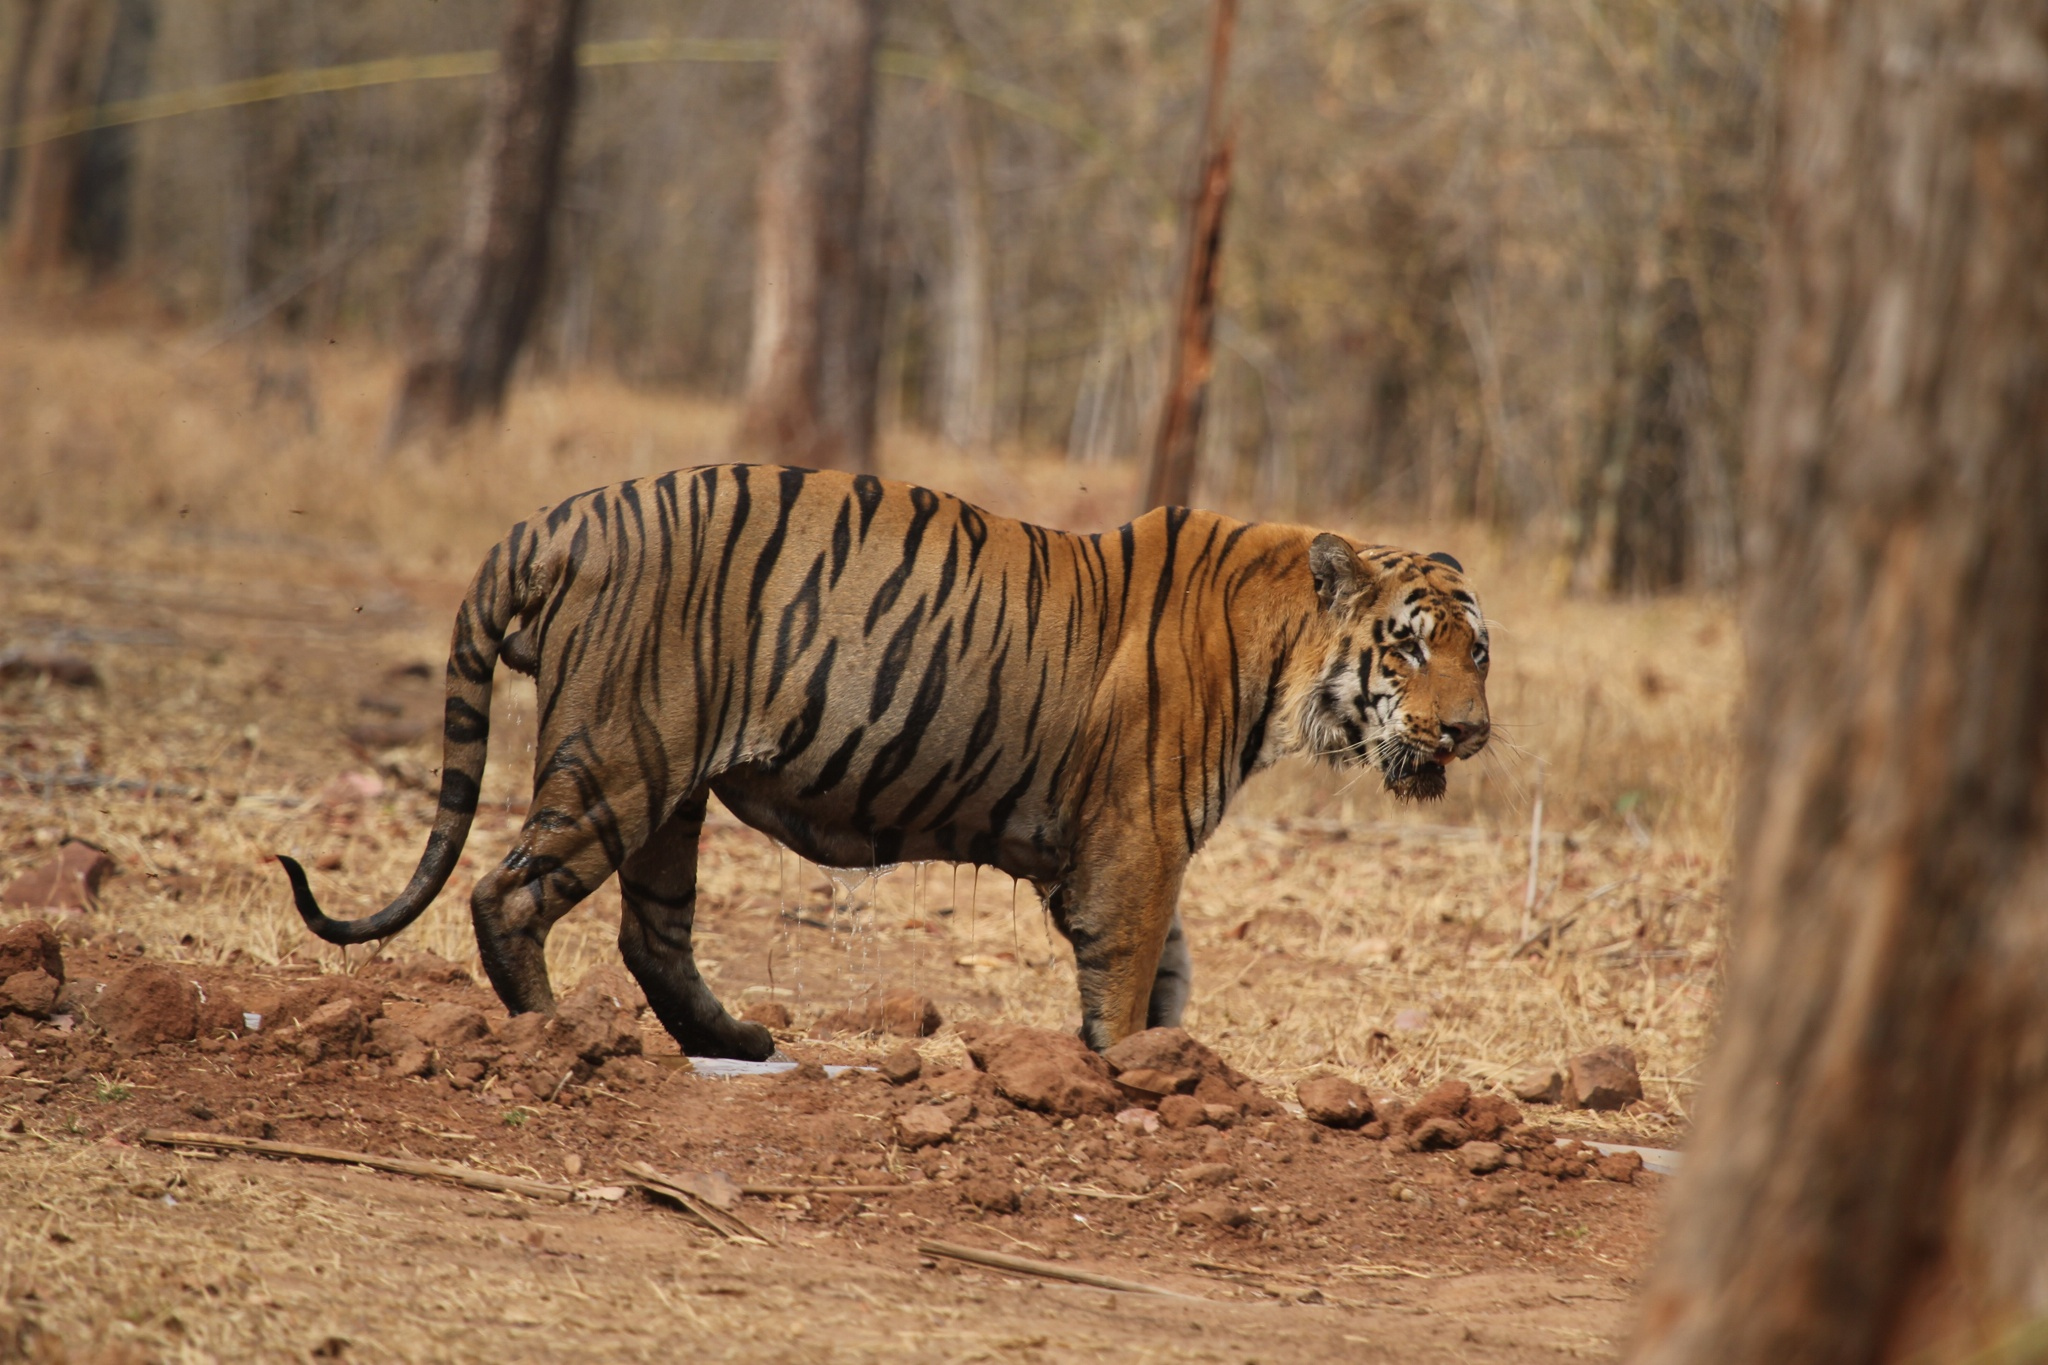tiger: (260, 452, 1520, 1124)
